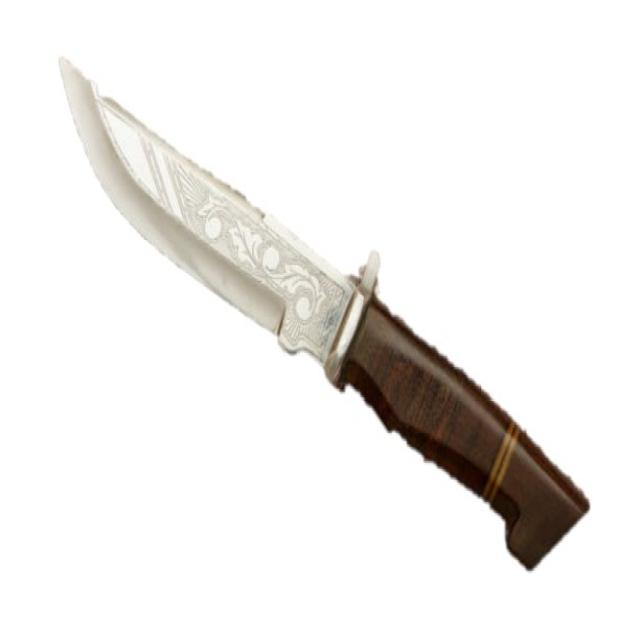knife: (56, 46, 593, 596)
